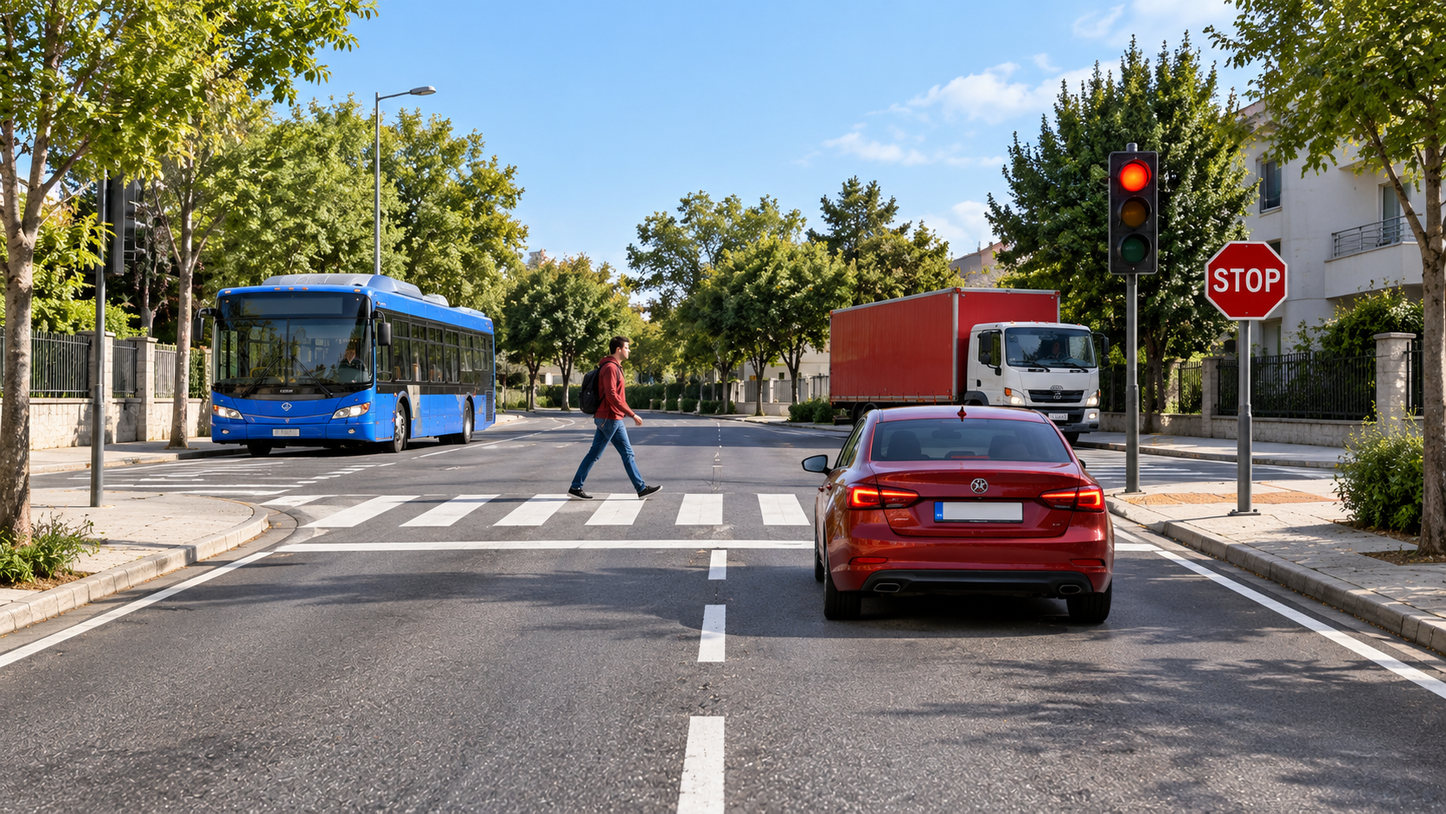bus: (207, 278, 496, 463)
car: (800, 402, 1125, 621)
person: (560, 336, 668, 502)
stop_sign: (1200, 238, 1303, 328)
traffic_light: (1103, 149, 1163, 278)
truck: (822, 267, 1107, 443)
zebra_crossing: (0, 488, 1445, 595)
